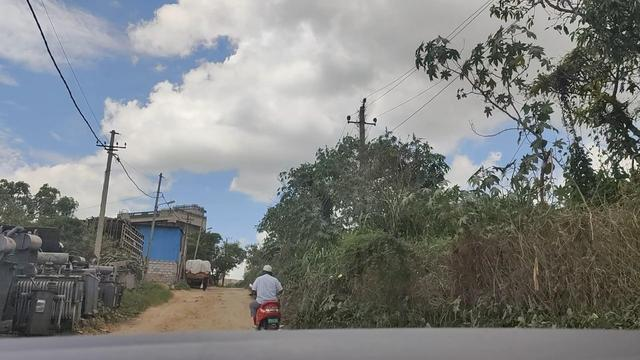HMV: (180, 255, 214, 295)
LMV: (248, 253, 290, 334)
UnsurfacedRoad: (152, 290, 246, 331)
